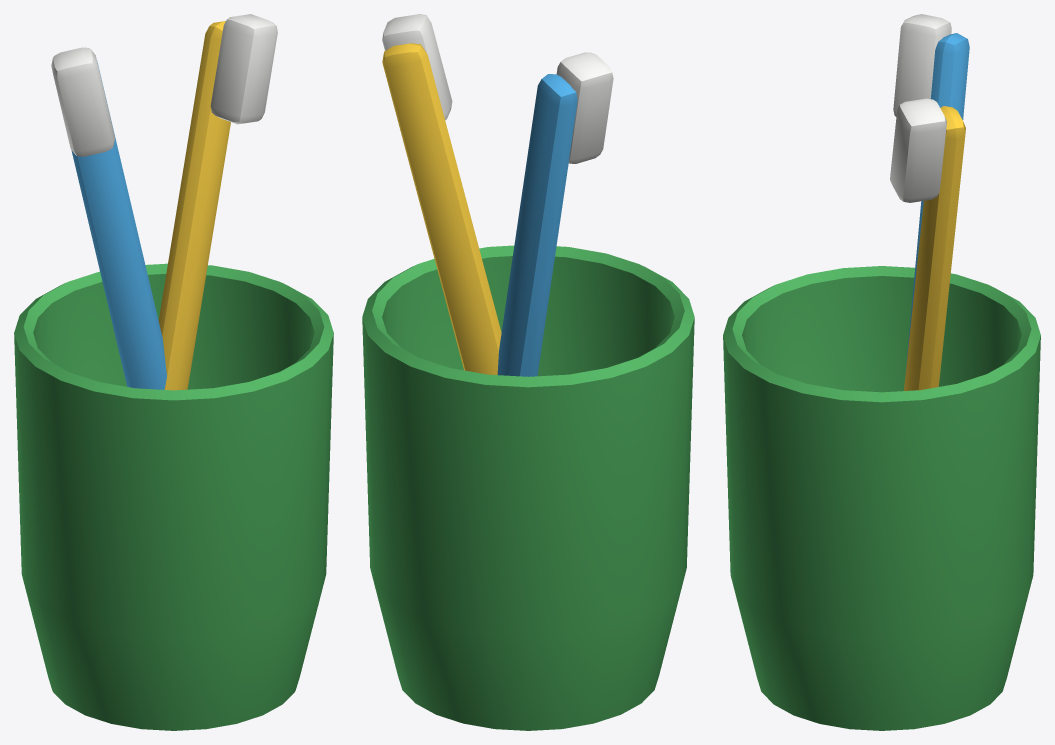
Rendered from copo_escovas_verde.glb.
3 renders of one model, left to right at view 1: azimuth 30°, elevation 25°; view 2: azimuth 150°, elevation 25°; view 3: azimuth 270°, elevation 25°, orthographic. The views are drawn at different scales.
Visible parts, largest first — view 1: copo_escovas_verde; view 2: copo_escovas_verde; view 3: copo_escovas_verde.
Part boxes in pixels (x1,y1,x2,y2): copo_escovas_verde: (14,14,333,730); copo_escovas_verde: (362,14,694,730); copo_escovas_verde: (723,14,1040,730).
Bounding box in the file's own units: 0.084 × 0.1818 × 0.084.
Materials: 1 (1 with a texture image).
